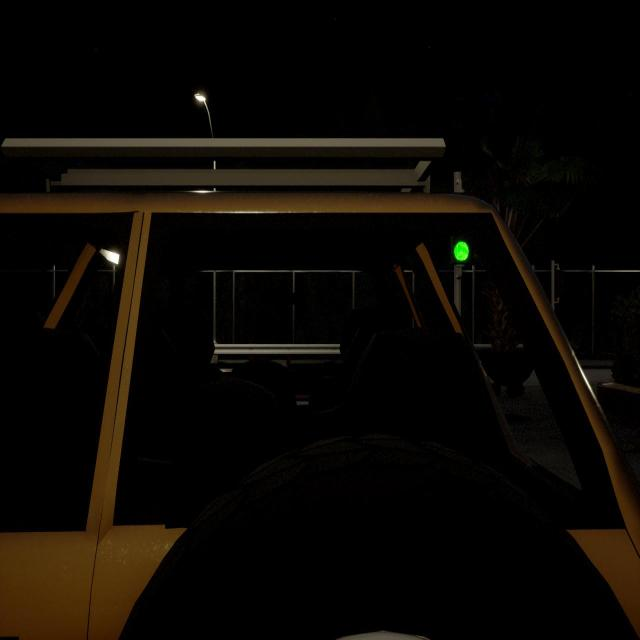Vehicle: (1, 134, 640, 640)
traffic_light: (451, 219, 469, 265), (554, 269, 564, 298)
